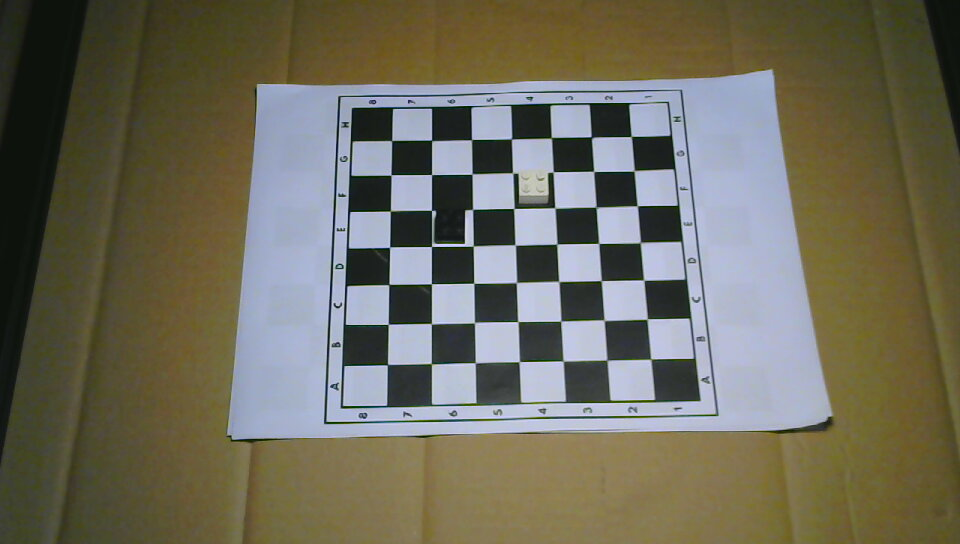bp: (434, 207, 465, 244)
wp: (517, 169, 549, 204)
